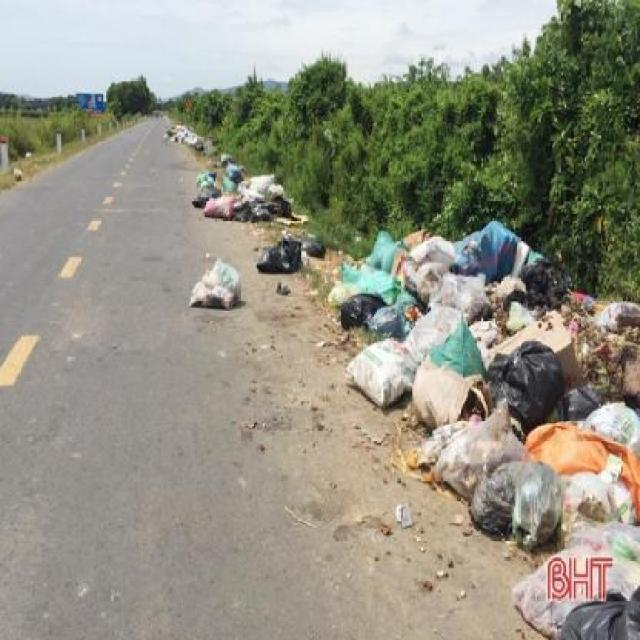plastic bag: (343, 213, 639, 602), (441, 414, 634, 551), (512, 550, 638, 638), (190, 154, 296, 228), (486, 338, 562, 417), (343, 337, 414, 412), (189, 249, 240, 308), (254, 230, 300, 282), (581, 400, 634, 440), (162, 116, 206, 152), (306, 234, 326, 266)
